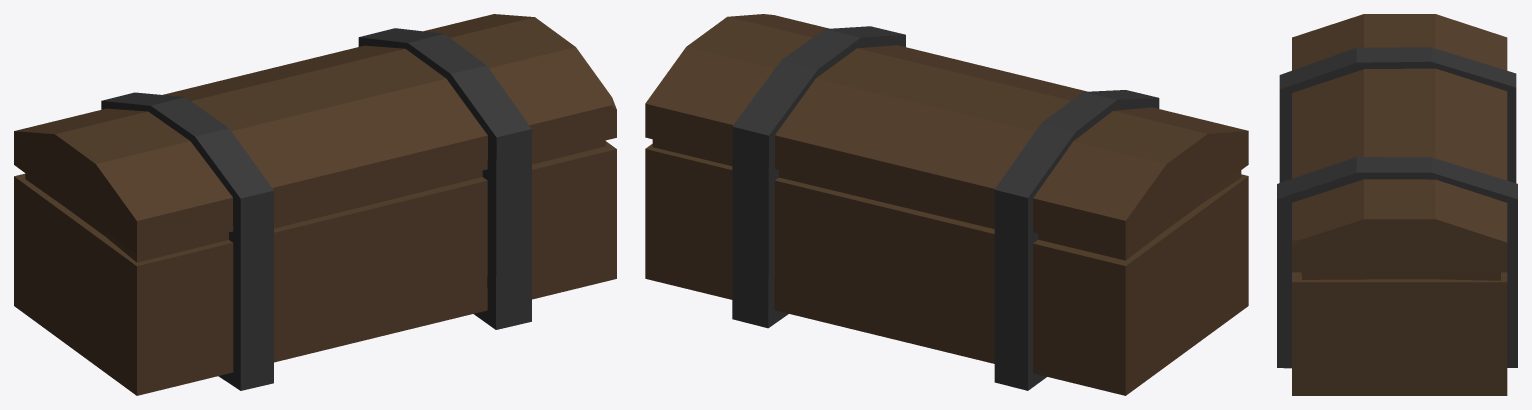
Rendered from Witch_Treasure_Box.fbx.
3 views of the same model, side by side, from view 1: azimuth 30°, elevation 25°; view 2: azimuth 150°, elevation 25°; view 3: azimuth 270°, elevation 25° (orthographic). The views are drawn at different scales.
Visible parts, largest first — view 1: Treasure_Box; view 2: Treasure_Box; view 3: Treasure_Box.
Part boxes in pixels (x1=…): Treasure_Box: x1=14, y1=14, x2=616, y2=395; Treasure_Box: x1=645, y1=14, x2=1248, y2=395; Treasure_Box: x1=1277, y1=14, x2=1517, y2=395.
Bounding box in the file's own units: 366 × 163 × 181.
